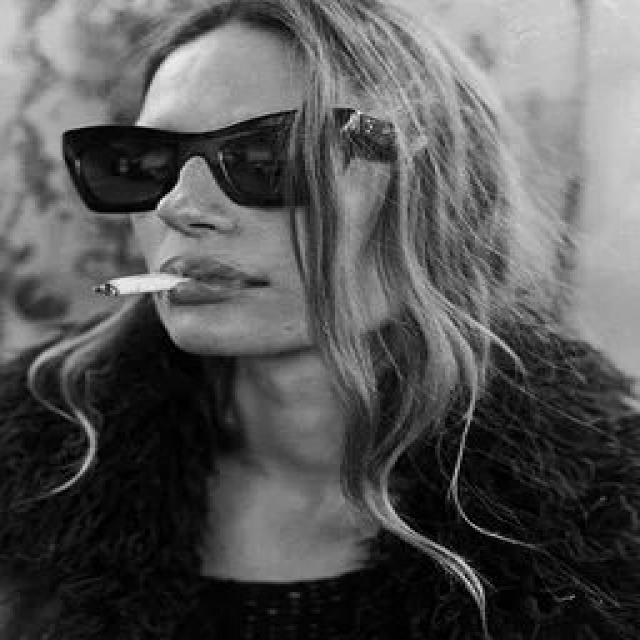smoke: (95, 264, 195, 302)
